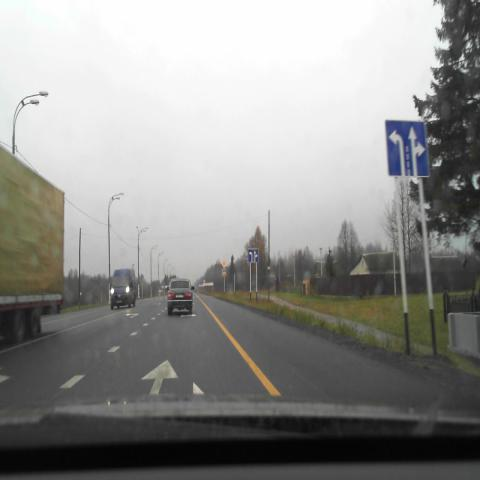5_15_2_2: (385, 120, 430, 177), (248, 248, 258, 263)
